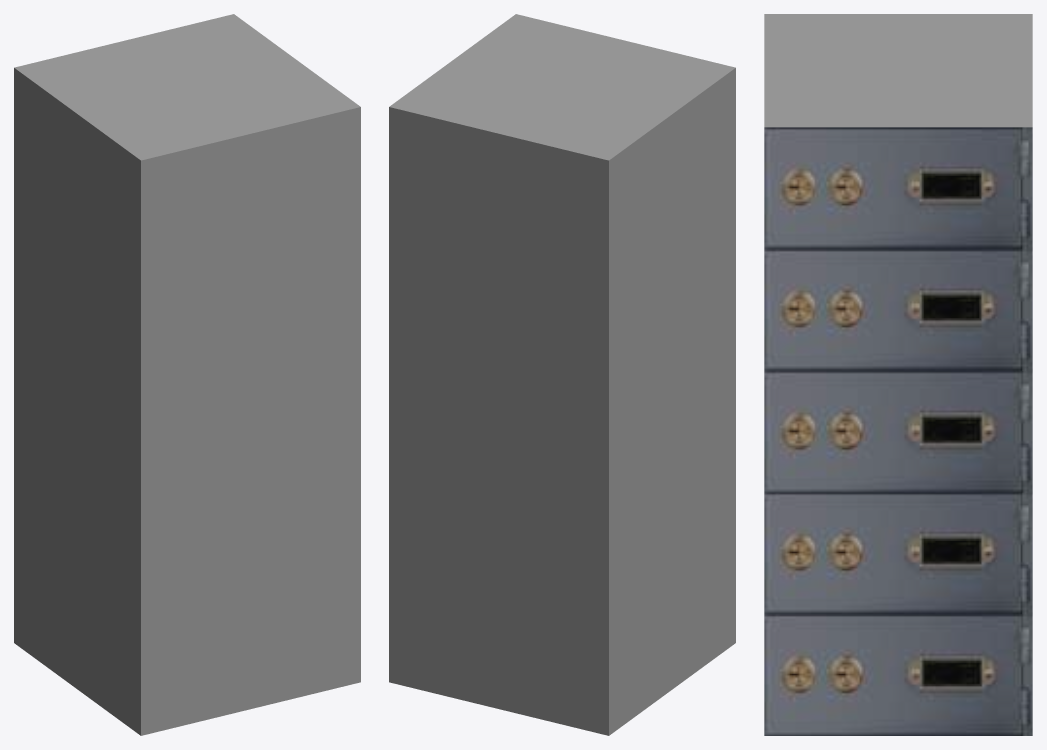
File: deposit box.fbx
3 views of the same model, side by side, from view 1: azimuth 30°, elevation 25°; view 2: azimuth 150°, elevation 25°; view 3: azimuth 270°, elevation 25° (orthographic). The views are drawn at different scales.
Visible parts, largest first — view 1: deposit box; view 2: deposit box; view 3: deposit box.
Part boxes in pixels (x1,y1,x2,y2): deposit box: (14, 14, 360, 735); deposit box: (389, 14, 735, 735); deposit box: (764, 14, 1032, 735).
Bounding box in the file's own units: 40 × 100 × 40.
Materials: 2 (1 with a texture image).
